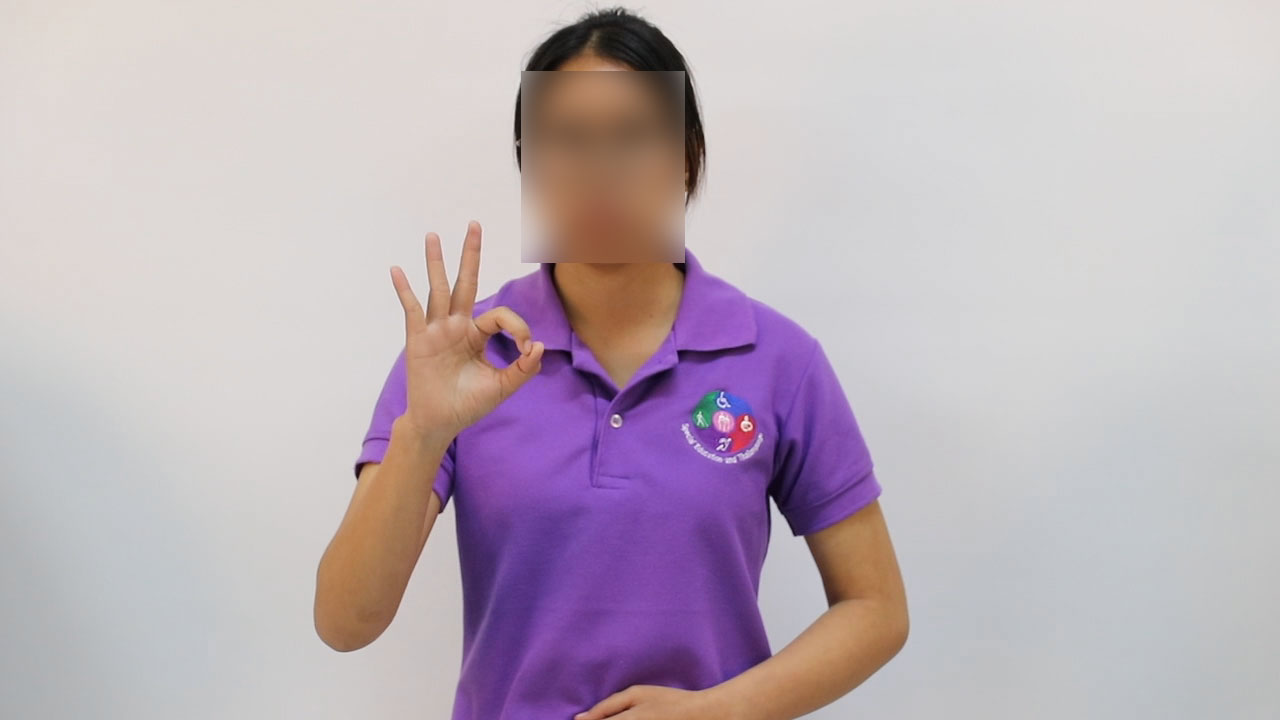for: (372, 208, 556, 441)
